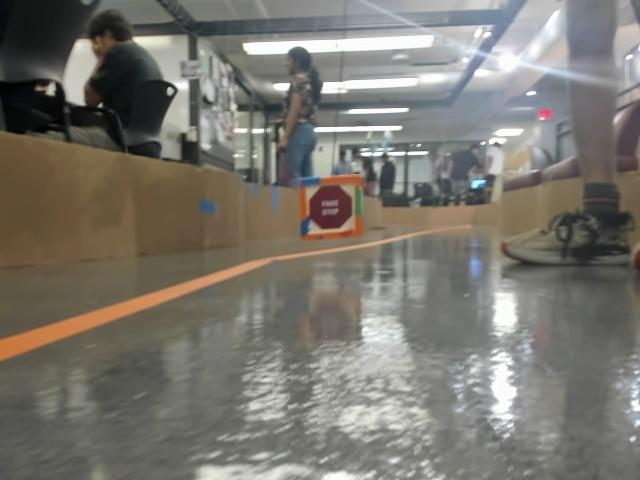Fake Stop: (307, 186, 351, 230)
